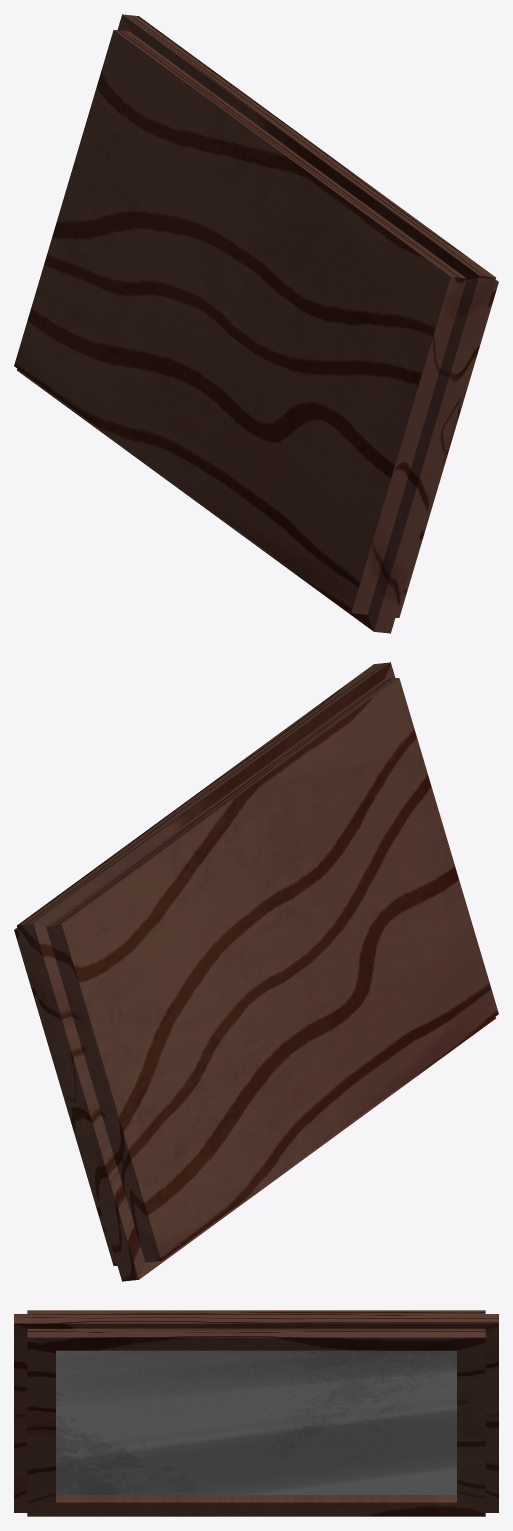
File: yamuk ayna - Copy.fbx
The picture shows the model from 3 angles, top to bottom: view 1: azimuth 30°, elevation 25°; view 2: azimuth 150°, elevation 25°; view 3: azimuth 270°, elevation 25°; orthographic projection. The views are drawn at different scales.
Visible parts, largest first — view 1: Cube.065; view 2: Cube.065; view 3: Cube.065.
Part boxes in pixels (bbox=[...]): Cube.065: bbox=[14, 14, 498, 633]; Cube.065: bbox=[14, 662, 498, 1281]; Cube.065: bbox=[14, 1310, 498, 1516].
Bounding box in the file's own units: 53.47 × 116 × 224.
Materials: 2 (2 with a texture image).
